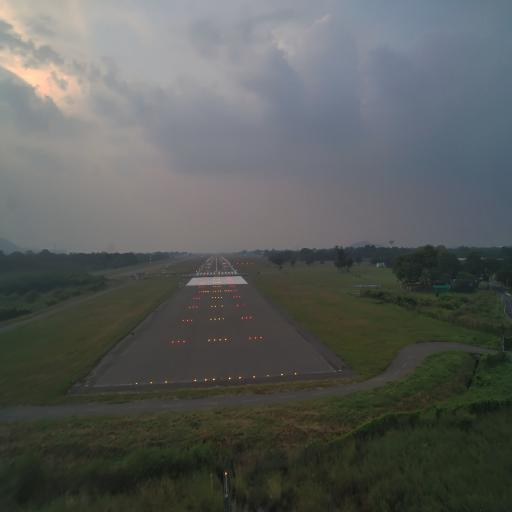off: (178, 378, 183, 384), (220, 376, 223, 382)
on: (192, 377, 198, 384), (237, 374, 242, 382), (228, 374, 232, 383), (265, 372, 270, 379), (164, 378, 168, 386), (218, 336, 222, 344), (212, 376, 216, 383), (280, 372, 284, 378), (294, 371, 298, 377), (248, 335, 252, 341), (253, 336, 257, 342), (204, 377, 207, 384), (213, 337, 216, 344), (150, 380, 154, 385), (252, 374, 256, 379), (135, 380, 138, 386), (171, 339, 174, 345), (177, 338, 180, 344), (224, 336, 227, 342), (182, 339, 185, 344), (259, 335, 262, 340), (208, 337, 210, 344)
